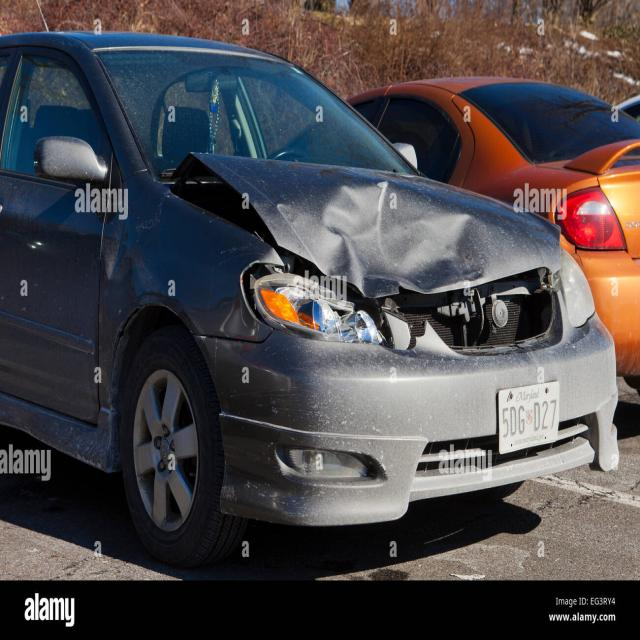crush: (100, 153, 567, 361)
